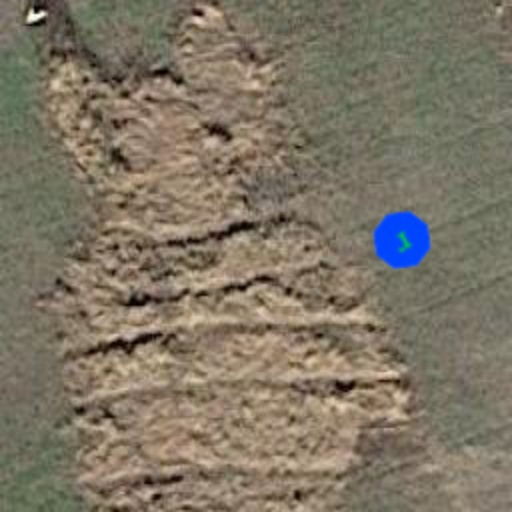octagon: (360, 198, 444, 282)
